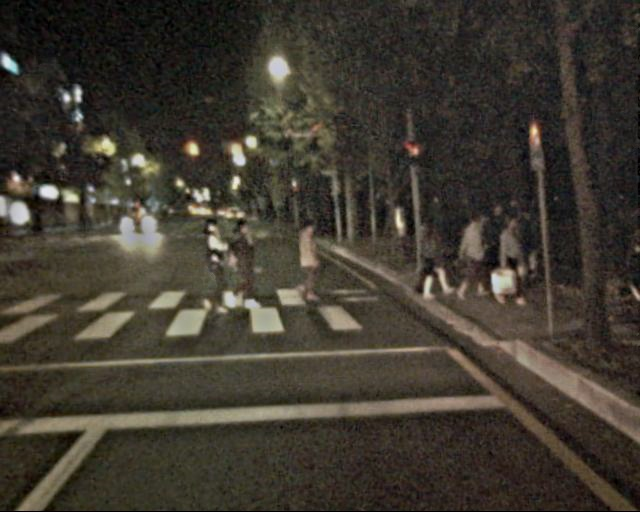person: (191, 218, 230, 313), (413, 213, 449, 301), (222, 219, 257, 305), (493, 219, 528, 305), (458, 216, 493, 301), (290, 220, 323, 300), (511, 205, 543, 283), (482, 203, 514, 280)
